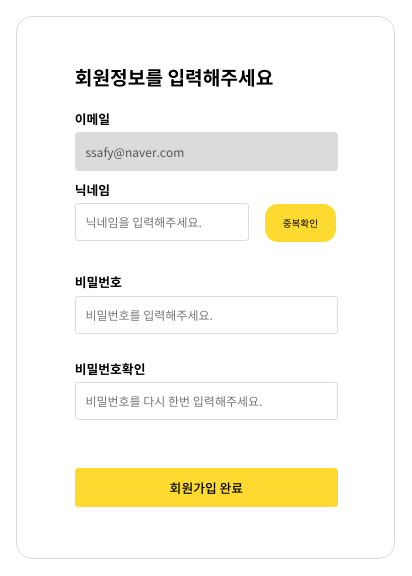
Test: 회원가입 디테일페이지 › 중복된 닉네임
Type "dupli" into the field with placeholder "닉네임을 입력해주세요." at (162, 222), box [75,203,249,241]
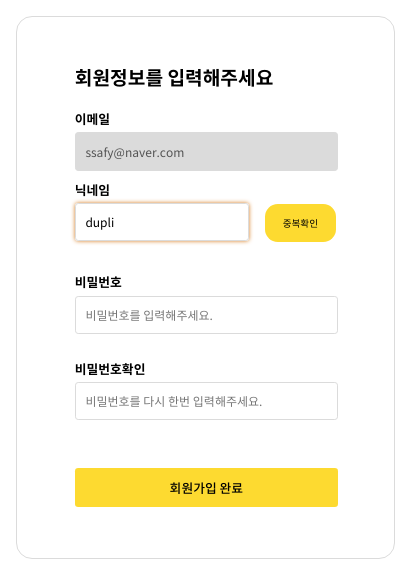
Click the button "중복확인" at (300, 223), box [265,204,336,242]
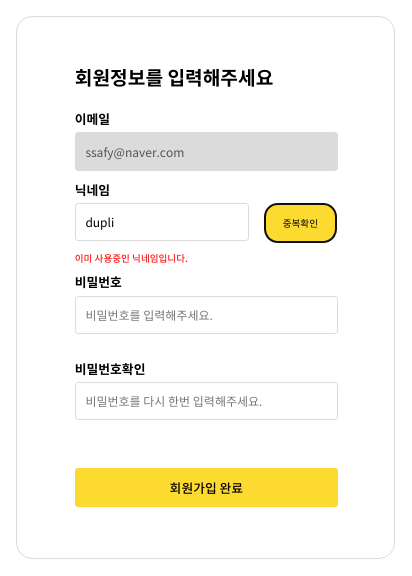
Expected: the text "이미 사용중인 닉네임입니다." is shown, [75,251,188,265]
